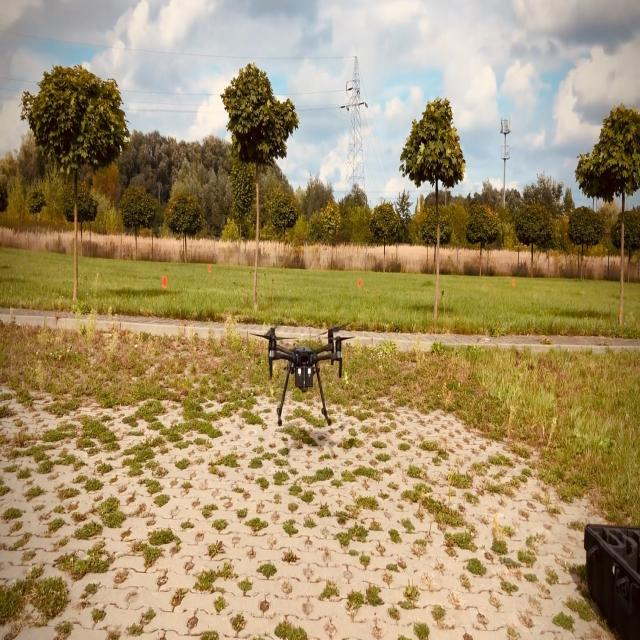drone: (247, 324, 356, 426)
